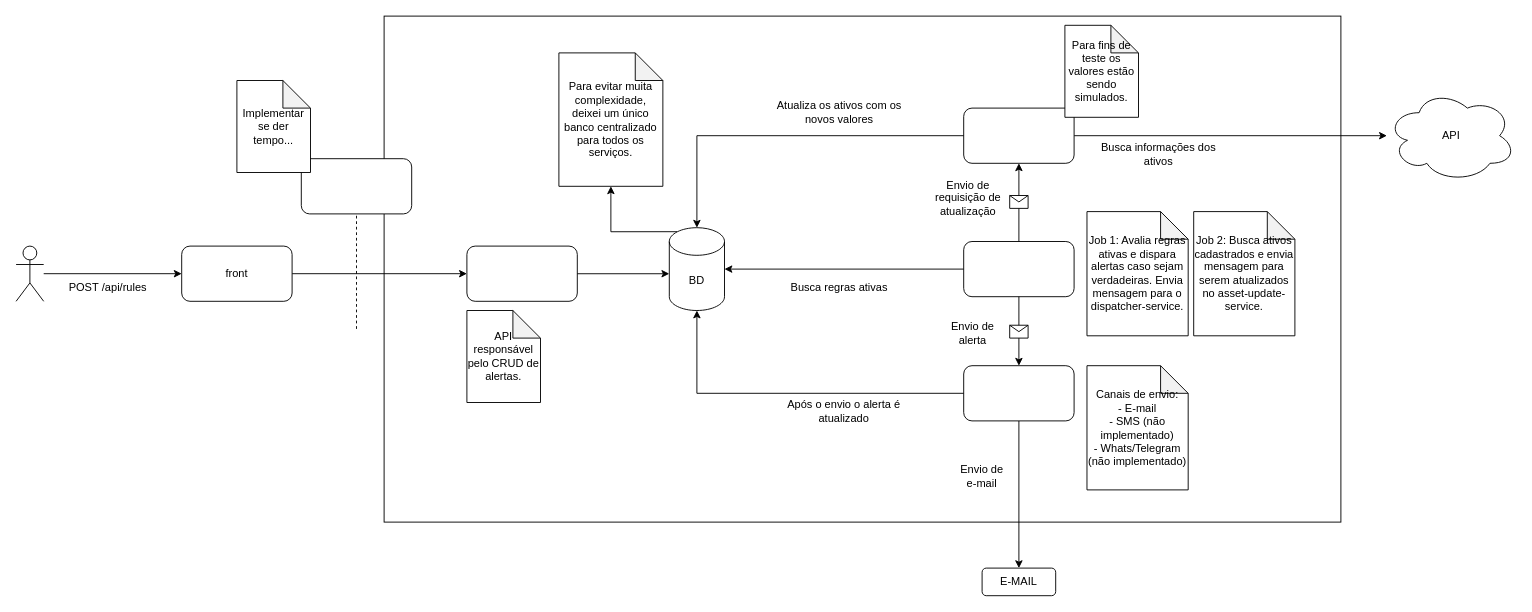
Image size: 1532x612. Some labels were removed from this diagram. The centre of each missing label's shape, as x and y in pixels:
Actor: (x=29, y=273)
api-gateway: (x=356, y=186)
asset-update-service: (x=1018, y=135)
dispatcher-service: (x=1018, y=393)
invest-alert-api: (x=521, y=273)
scheduler-service: (x=1018, y=269)
